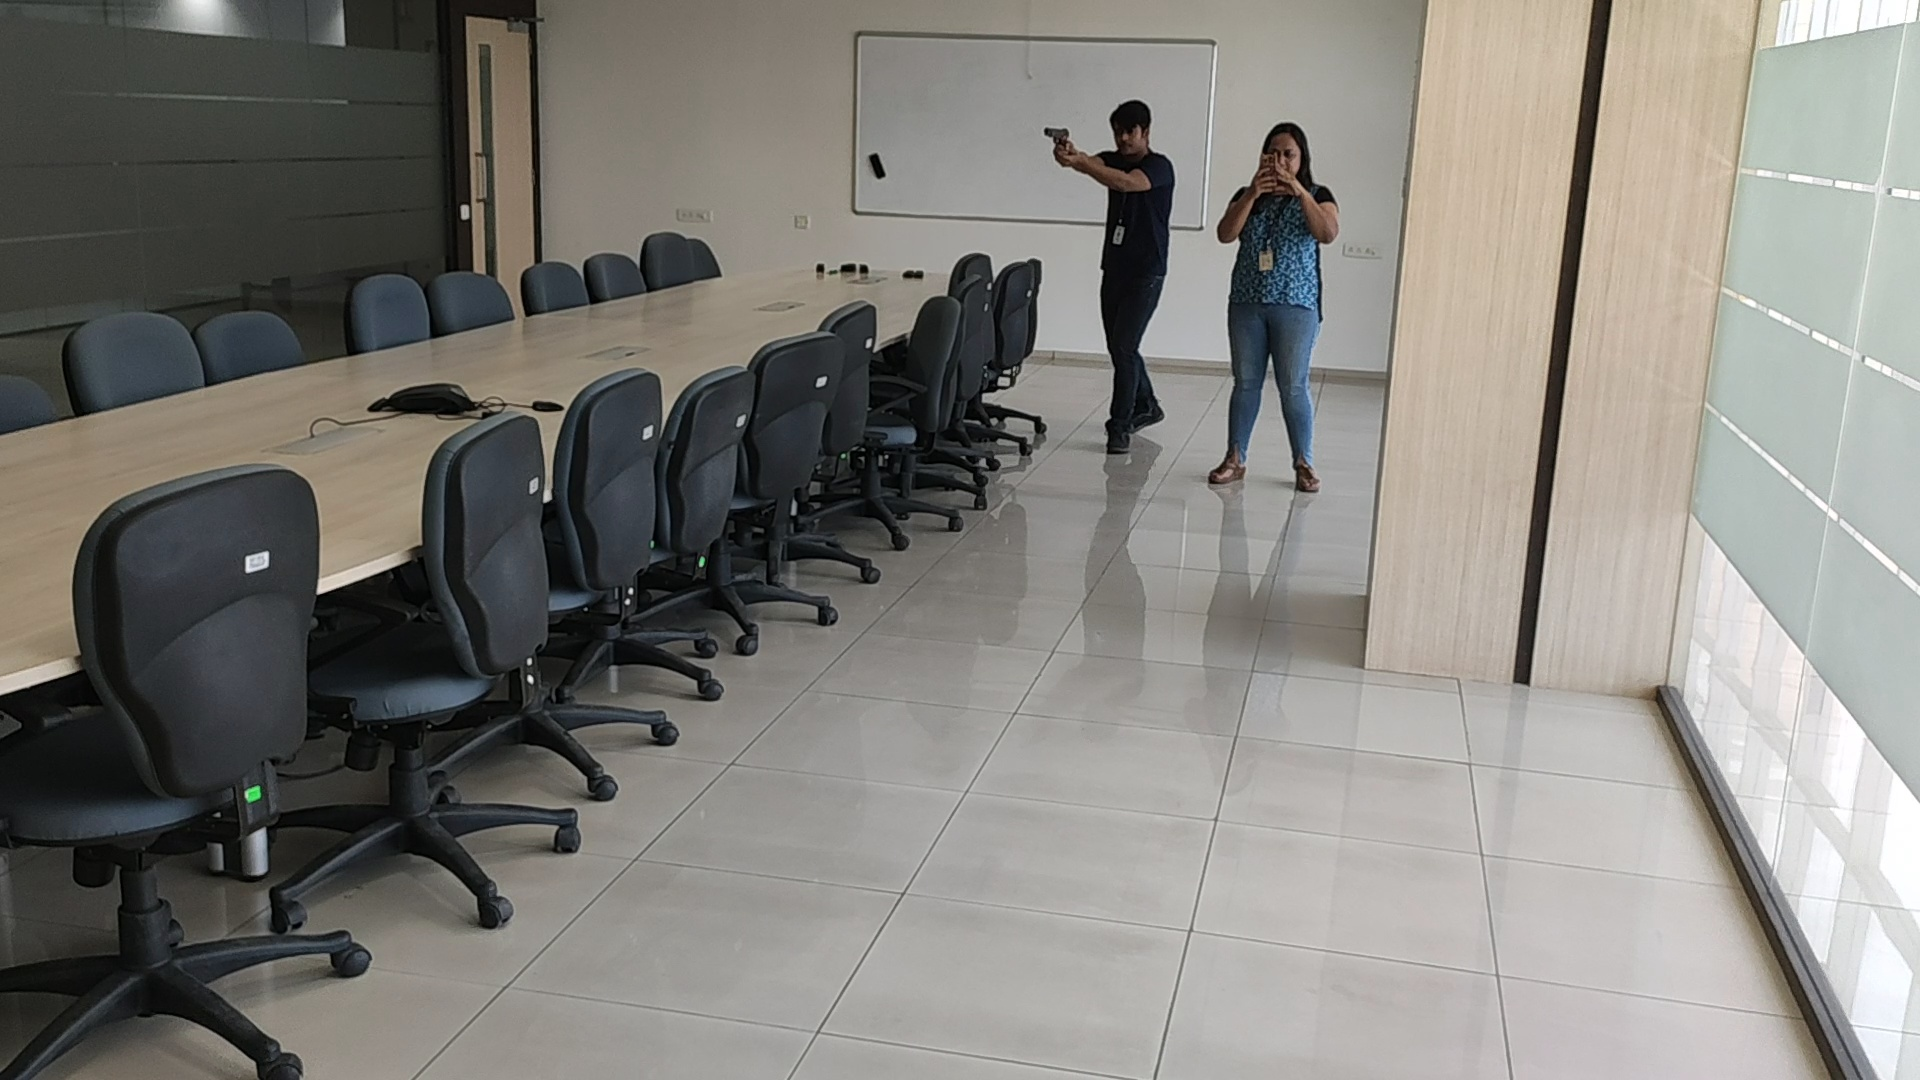gun: (1042, 123, 1069, 149)
